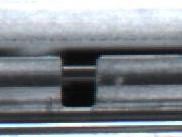oneu: (50, 48, 105, 115)
